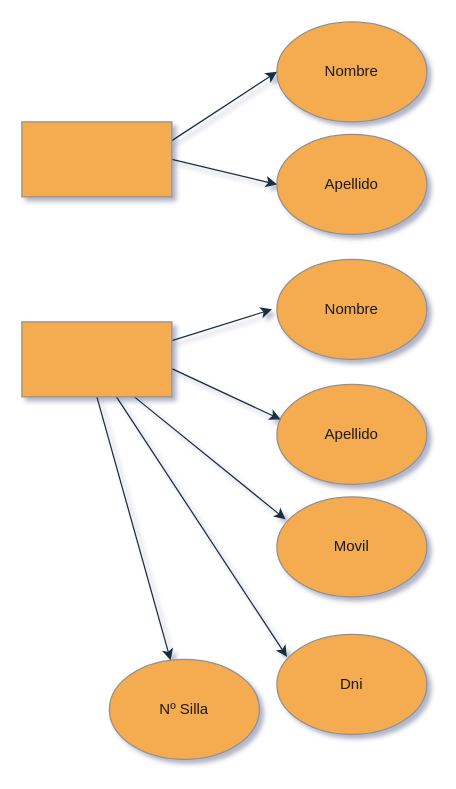
This 456x789 diagram has some shape labels left out. The shapes that lost their labels are listed below. From the top down, each one's centre as x and y in pixels, then its label:
pixel 96 159: PROFESOR
pixel 96 359: ALUMNO
